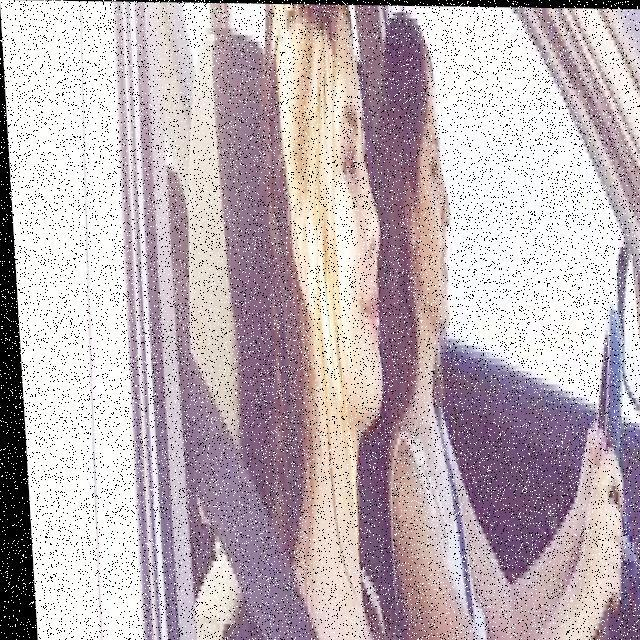seatbelt: (168, 322, 314, 640), (397, 367, 488, 640)
